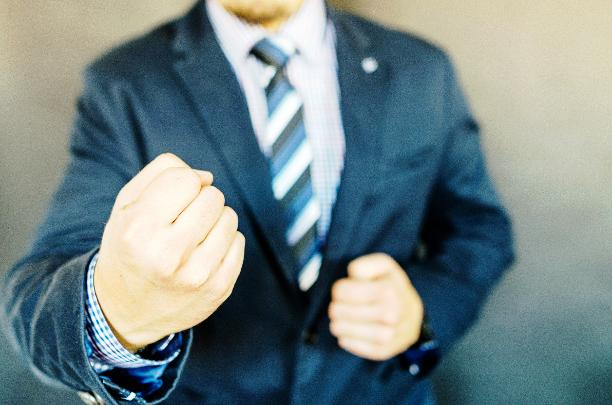Rock: (99, 146, 248, 342), (325, 248, 429, 373)
